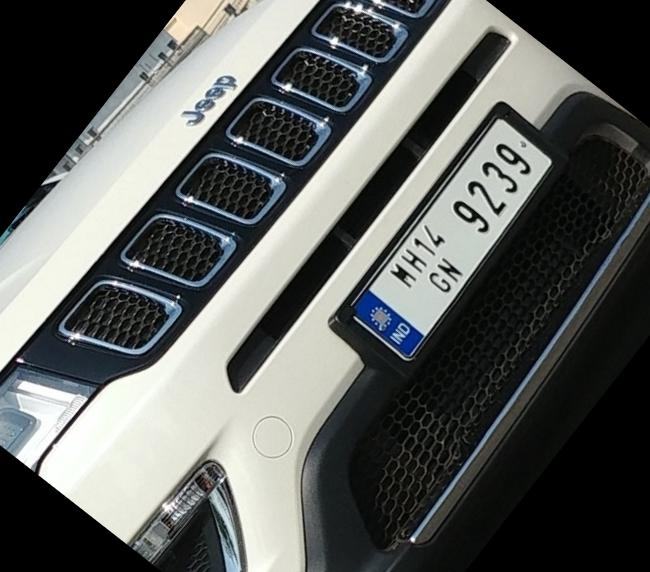plate: (314, 91, 574, 385)
